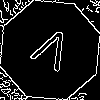V: (25, 25, 76, 80)
